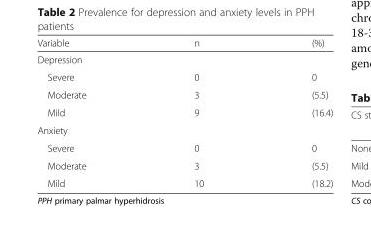table: (36, 36, 332, 188)
table column: (139, 36, 257, 188), (36, 36, 139, 188), (257, 36, 332, 188)
table column header: (36, 36, 332, 50)
table projected row header: (36, 50, 332, 67), (36, 121, 332, 138)
table row: (36, 67, 332, 85), (36, 85, 332, 103), (36, 103, 332, 121), (36, 138, 332, 156), (36, 156, 332, 174), (36, 50, 332, 67), (36, 121, 332, 138), (36, 36, 332, 50), (36, 174, 332, 188)
